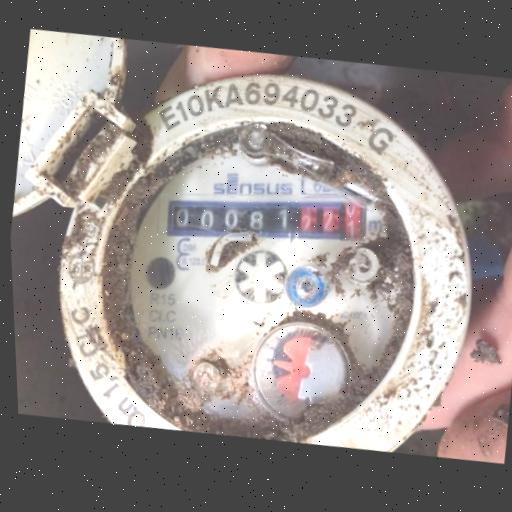0: (215, 203, 246, 235), (190, 204, 221, 234), (170, 203, 197, 233)
1: (337, 199, 366, 243), (269, 203, 300, 234), (294, 204, 321, 237)
2: (315, 204, 342, 238)
8: (240, 204, 271, 236)
border_water_meter_number: (160, 172, 372, 266)
